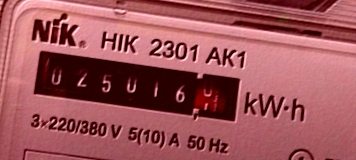0: (125, 71, 142, 95), (49, 63, 65, 87), (201, 77, 216, 98)
1: (149, 73, 164, 100), (201, 100, 211, 112)
2: (75, 64, 91, 89)
5: (100, 71, 114, 93)
6: (173, 80, 189, 106)
screen: (24, 38, 253, 131)
